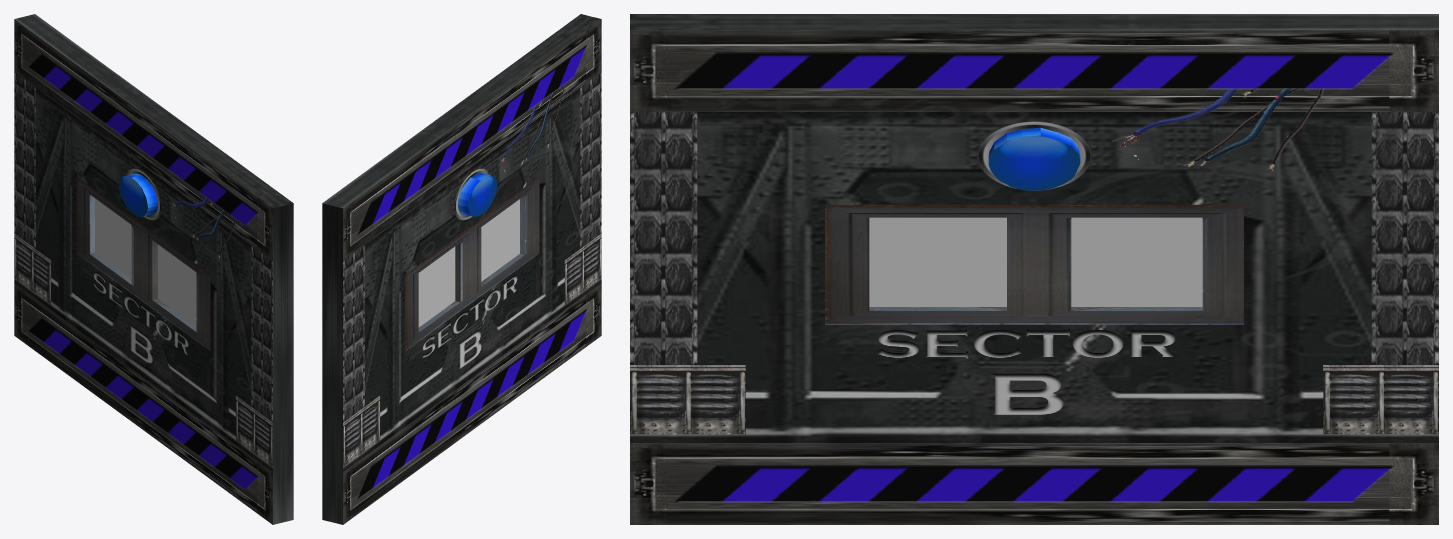
The model's file is door_blue.glb.
The picture shows the model from 3 angles, left to right: view 1: azimuth 30°, elevation 25°; view 2: azimuth 150°, elevation 25°; view 3: azimuth 270°, elevation 25°; orthographic projection. The views are drawn at different scales.
Parts seen in each view (by area): view 1: Cube.001; view 2: Cube.001; view 3: Cube.001.
Part boxes in pixels (x1,y1,x2,y2): Cube.001: (14, 14, 293, 524); Cube.001: (322, 14, 601, 524); Cube.001: (630, 14, 1438, 524).
Bounding box in the file's own units: 0.919 × 6.72 × 9.95.
2 materials, 1 textured.
